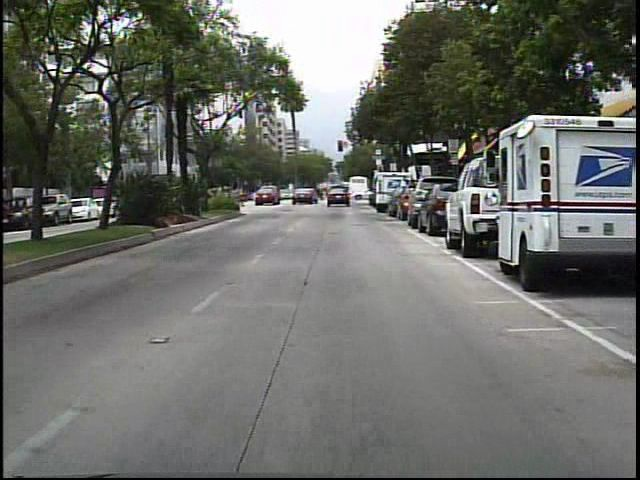person: (311, 181, 328, 206), (319, 184, 320, 204)
